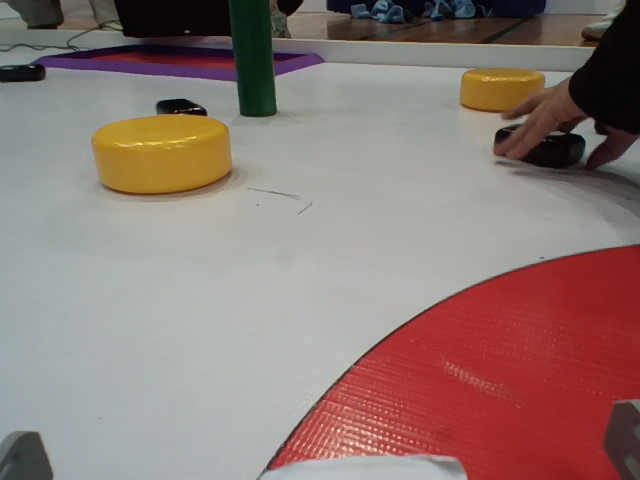black: (460, 119, 593, 181), (145, 91, 219, 125), (1, 61, 52, 86)
kuang: (29, 36, 340, 89)
yellow: (89, 118, 251, 197), (449, 59, 566, 114)
zhuzi: (219, 1, 283, 121)
